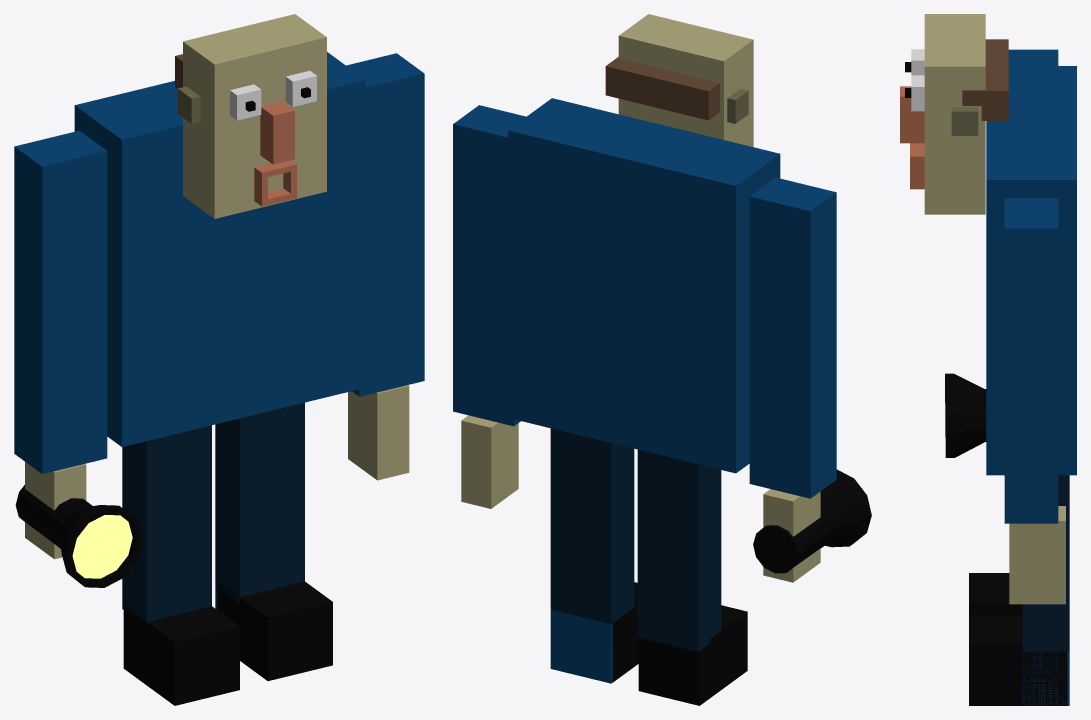
The model's file is Man.glb.
3 renders of one model, left to right at view 1: azimuth 30°, elevation 25°; view 2: azimuth 150°, elevation 25°; view 3: azimuth 270°, elevation 25°, orthographic. The views are drawn at different scales.
Parts seen in each view (by area): view 1: Cube, Cube.003, Cube.001, Cube.002, Cube.005, Cube.004, Cube.009, Cube.010, Cylinder, Cube.013, Cube.014, Cube.015 (+4 smaller); view 2: Cube, Cube.003, Cube.002, Cube.004, Cube.005, Cube.001, Cube.009, Cylinder, Cube.013, Cube.018, Cube.011, Cube.014 (+1 smaller); view 3: Cube, Cube.002, Cube.001, Cube.010, Cube.013, Cube.005, Cylinder, Cube.018, Cube.009, Cube.011, Cube.015, Cube.003 (+4 smaller).
Part boxes in pixels (x1=…): Cube: x1=74, y1=52, x2=365, y2=446; Cube.003: x1=14, y1=130, x2=107, y2=474; Cube.001: x1=183, y1=14, x2=326, y2=218; Cube.002: x1=346, y1=53, x2=424, y2=396; Cube.005: x1=215, y1=402, x2=304, y2=603; Cube.004: x1=122, y1=425, x2=211, y2=625; Cube.009: x1=123, y1=605, x2=239, y2=705; Cube.010: x1=216, y1=580, x2=332, y2=680; Cylinder: x1=15, y1=485, x2=142, y2=587; Cube.013: x1=348, y1=385, x2=409, y2=480; Cube.014: x1=25, y1=462, x2=86, y2=559; Cube.015: x1=260, y1=101, x2=294, y2=164; Cube: x1=508, y1=98, x2=780, y2=473; Cube.003: x1=749, y1=177, x2=836, y2=498; Cube.002: x1=453, y1=105, x2=525, y2=426; Cube.004: x1=637, y1=449, x2=721, y2=651; Cube.005: x1=550, y1=428, x2=634, y2=624; Cube.001: x1=618, y1=14, x2=753, y2=146; Cube.009: x1=638, y1=605, x2=747, y2=705; Cylinder: x1=753, y1=469, x2=871, y2=573; Cube.013: x1=461, y1=415, x2=518, y2=508; Cube.018: x1=605, y1=57, x2=719, y2=120; Cube.011: x1=550, y1=609, x2=613, y2=683; Cube.014: x1=763, y1=489, x2=820, y2=582; Cube: x1=986, y1=66, x2=1076, y2=475; Cube.002: x1=1004, y1=198, x2=1058, y2=523; Cube.001: x1=924, y1=14, x2=985, y2=214; Cube.010: x1=969, y1=614, x2=1067, y2=705; Cube.013: x1=1009, y1=506, x2=1065, y2=604; Cube.005: x1=1022, y1=475, x2=1069, y2=651; Cylinder: x1=945, y1=373, x2=986, y2=457; Cube.018: x1=962, y1=39, x2=1008, y2=120; Cube.009: x1=969, y1=573, x2=1022, y2=614; Cube.011: x1=1022, y1=651, x2=1069, y2=705; Cube.015: x1=900, y1=86, x2=924, y2=143; Cube.003: x1=1008, y1=49, x2=1058, y2=65.
Bounding box in the file's own units: 2.27 × 3.64 × 0.9295.
